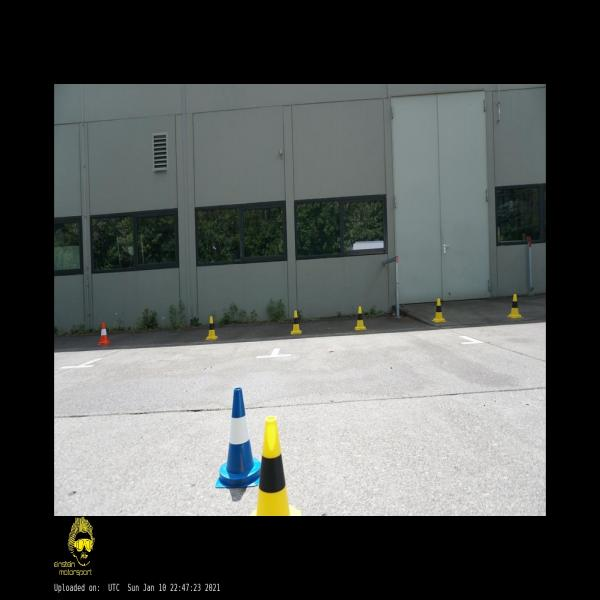blue_cone: (215, 387, 261, 488)
orange_cone: (97, 321, 112, 346)
yellow_cone: (249, 416, 302, 516), (506, 294, 524, 318), (432, 298, 446, 323), (206, 316, 218, 340), (355, 306, 367, 330), (291, 310, 302, 334)
